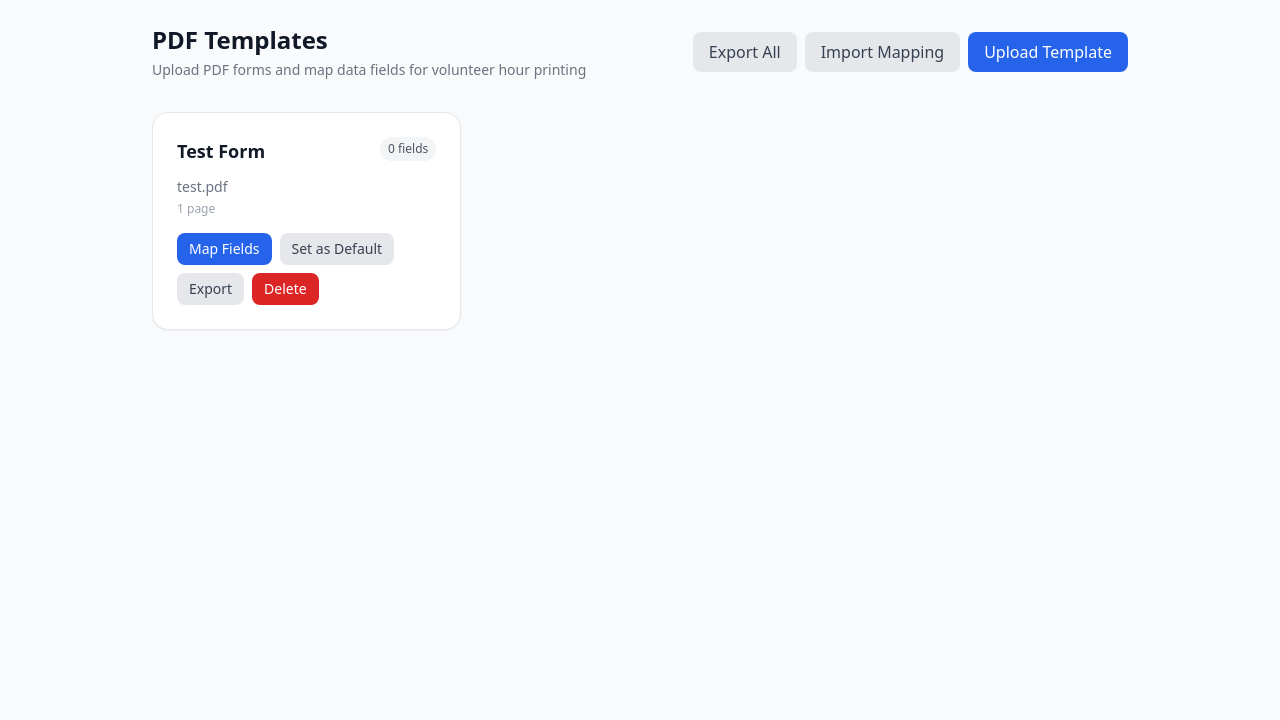
Test: PdfTemplatesPage › field mapper modal › should show static field selector and Place Field button
Click the button "Map Fields".
click(224, 249)  # box [177, 233, 272, 265]
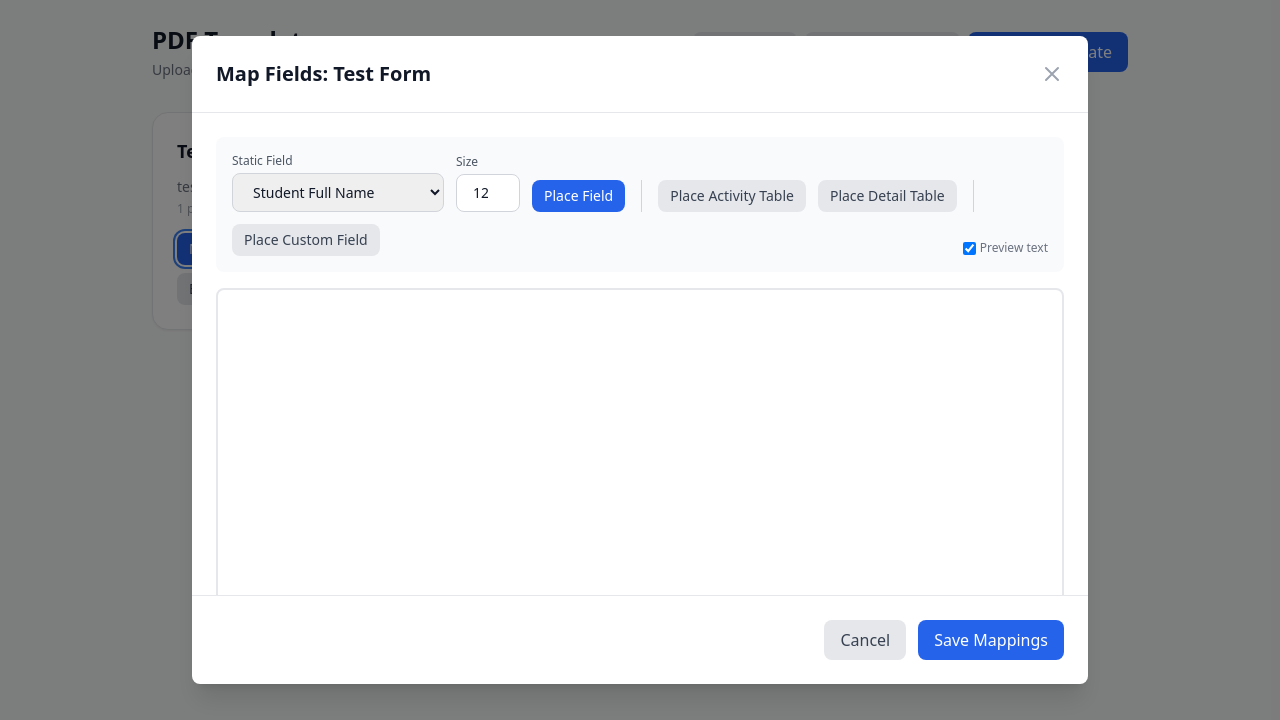
Now the text "Static Field" is shown, box [232, 152, 292, 169]
Now the text "Size" is shown, box [456, 153, 478, 170]
Now the button "Place Field" is shown, box [532, 180, 625, 212]
